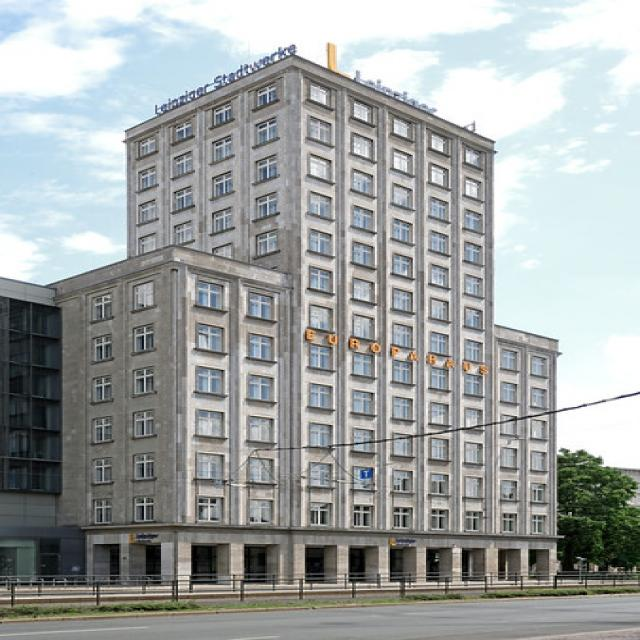Normal_building: (47, 47, 568, 594)
